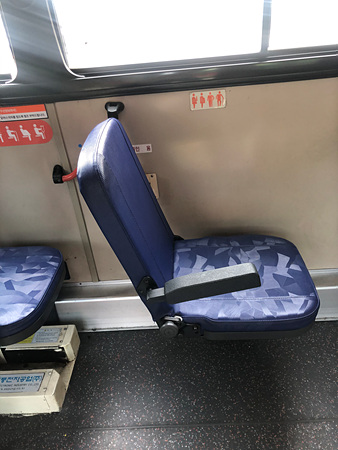seat: (78, 120, 317, 329)
